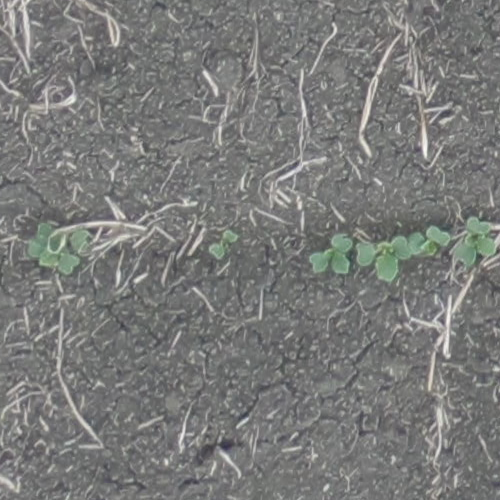plant: (27, 222, 92, 275), (355, 235, 413, 281), (451, 218, 498, 267), (310, 233, 354, 275), (414, 225, 449, 257), (209, 228, 242, 259)
